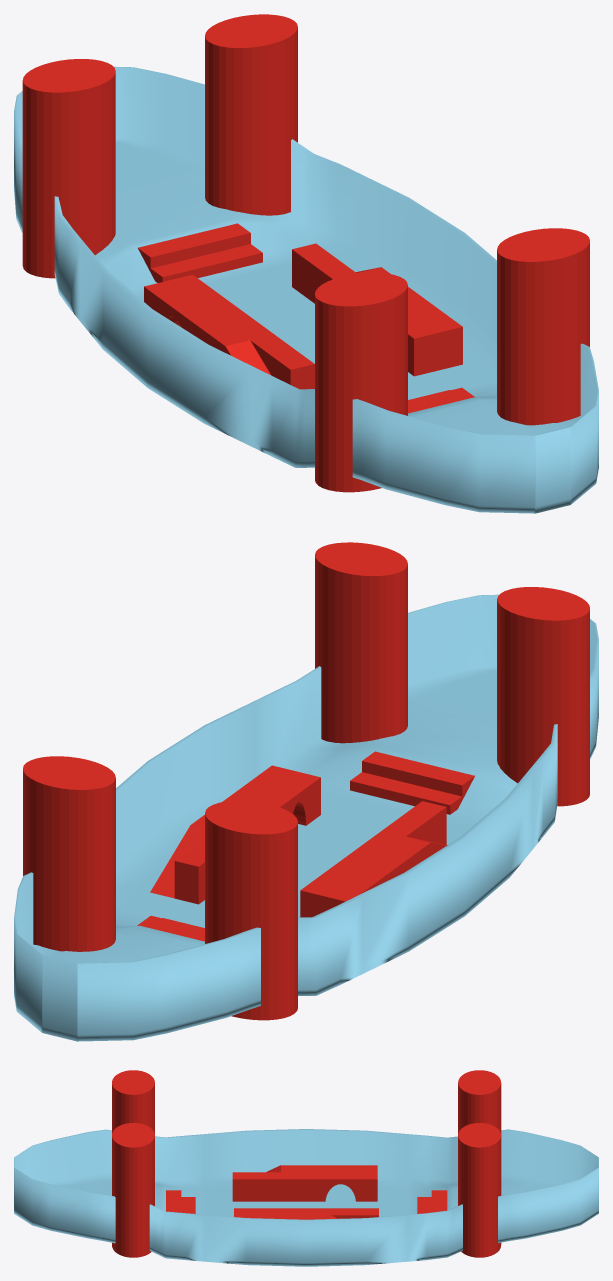
The model's file is MFL Map.fbx.
3 renders of one model, top to bottom at view 1: azimuth 30°, elevation 25°; view 2: azimuth 150°, elevation 25°; view 3: azimuth 270°, elevation 25°, orthographic. The views are drawn at different scales.
Visible parts, largest first — view 1: MFL Map; view 2: MFL Map; view 3: MFL Map.
Part boxes in pixels (x1=…): MFL Map: x1=14, y1=14, x2=598, y2=513; MFL Map: x1=14, y1=542, x2=598, y2=1041; MFL Map: x1=14, y1=1070, x2=598, y2=1266.
Bounding box in the file's own units: 2294 × 1306 × 6182.
